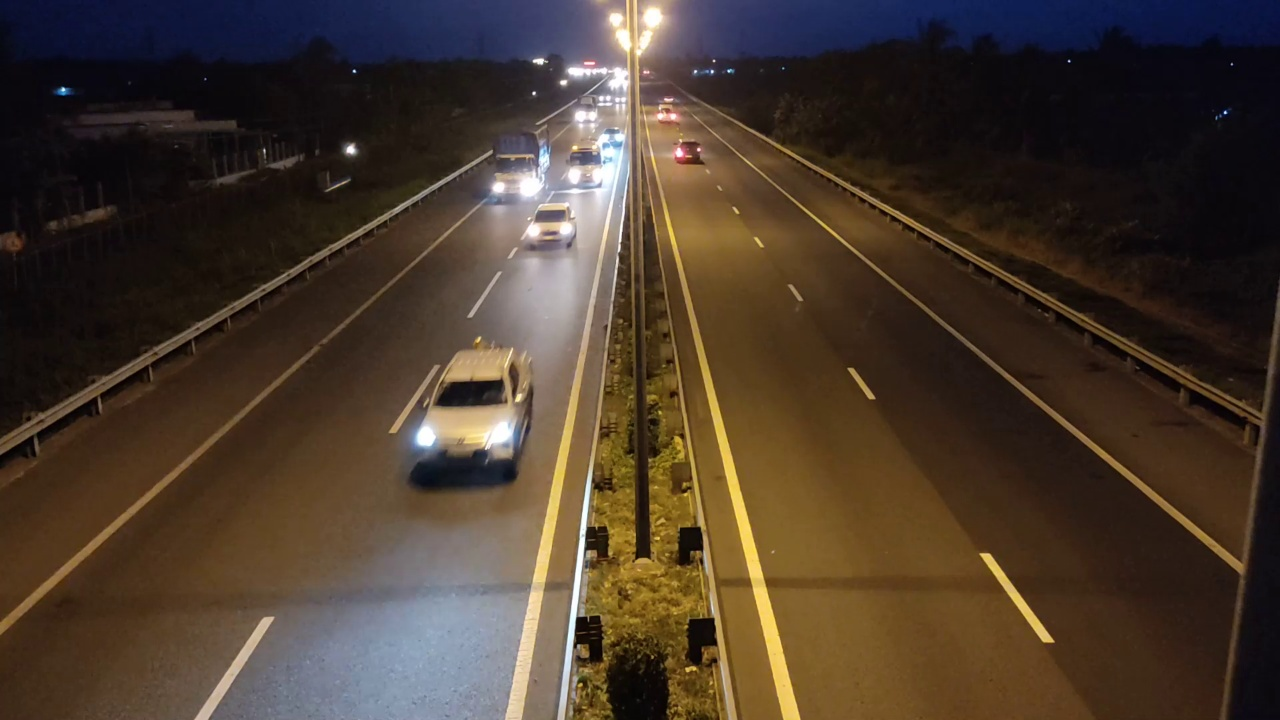car: (522, 201, 577, 250)
truck: (489, 131, 551, 203)
